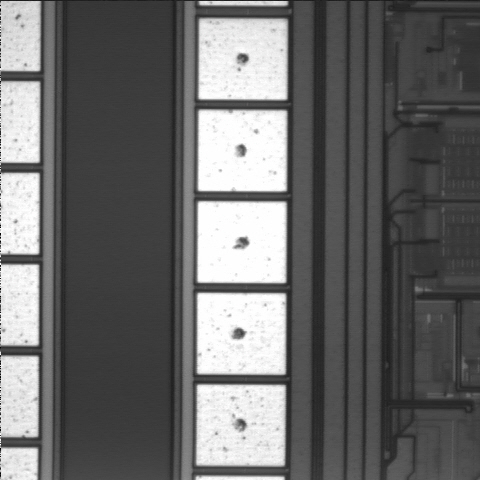pad: (197, 201, 286, 283), (197, 293, 286, 375), (198, 19, 287, 100), (198, 110, 287, 191), (196, 385, 285, 466)
